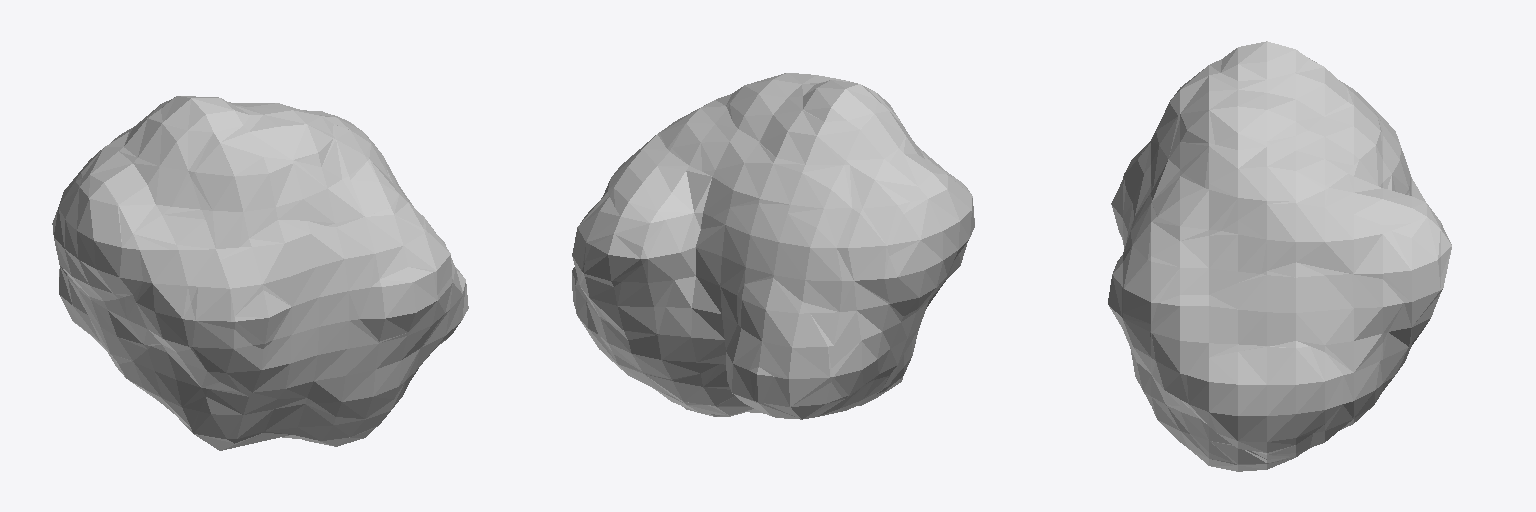
The model's file is 4pzk_cms.obj.
3 views of the same model, side by side, from view 1: azimuth 30°, elevation 25°; view 2: azimuth 150°, elevation 25°; view 3: azimuth 270°, elevation 25° (orthographic).
Bounding box in the file's own units: 67.14 × 62.16 × 53.97.